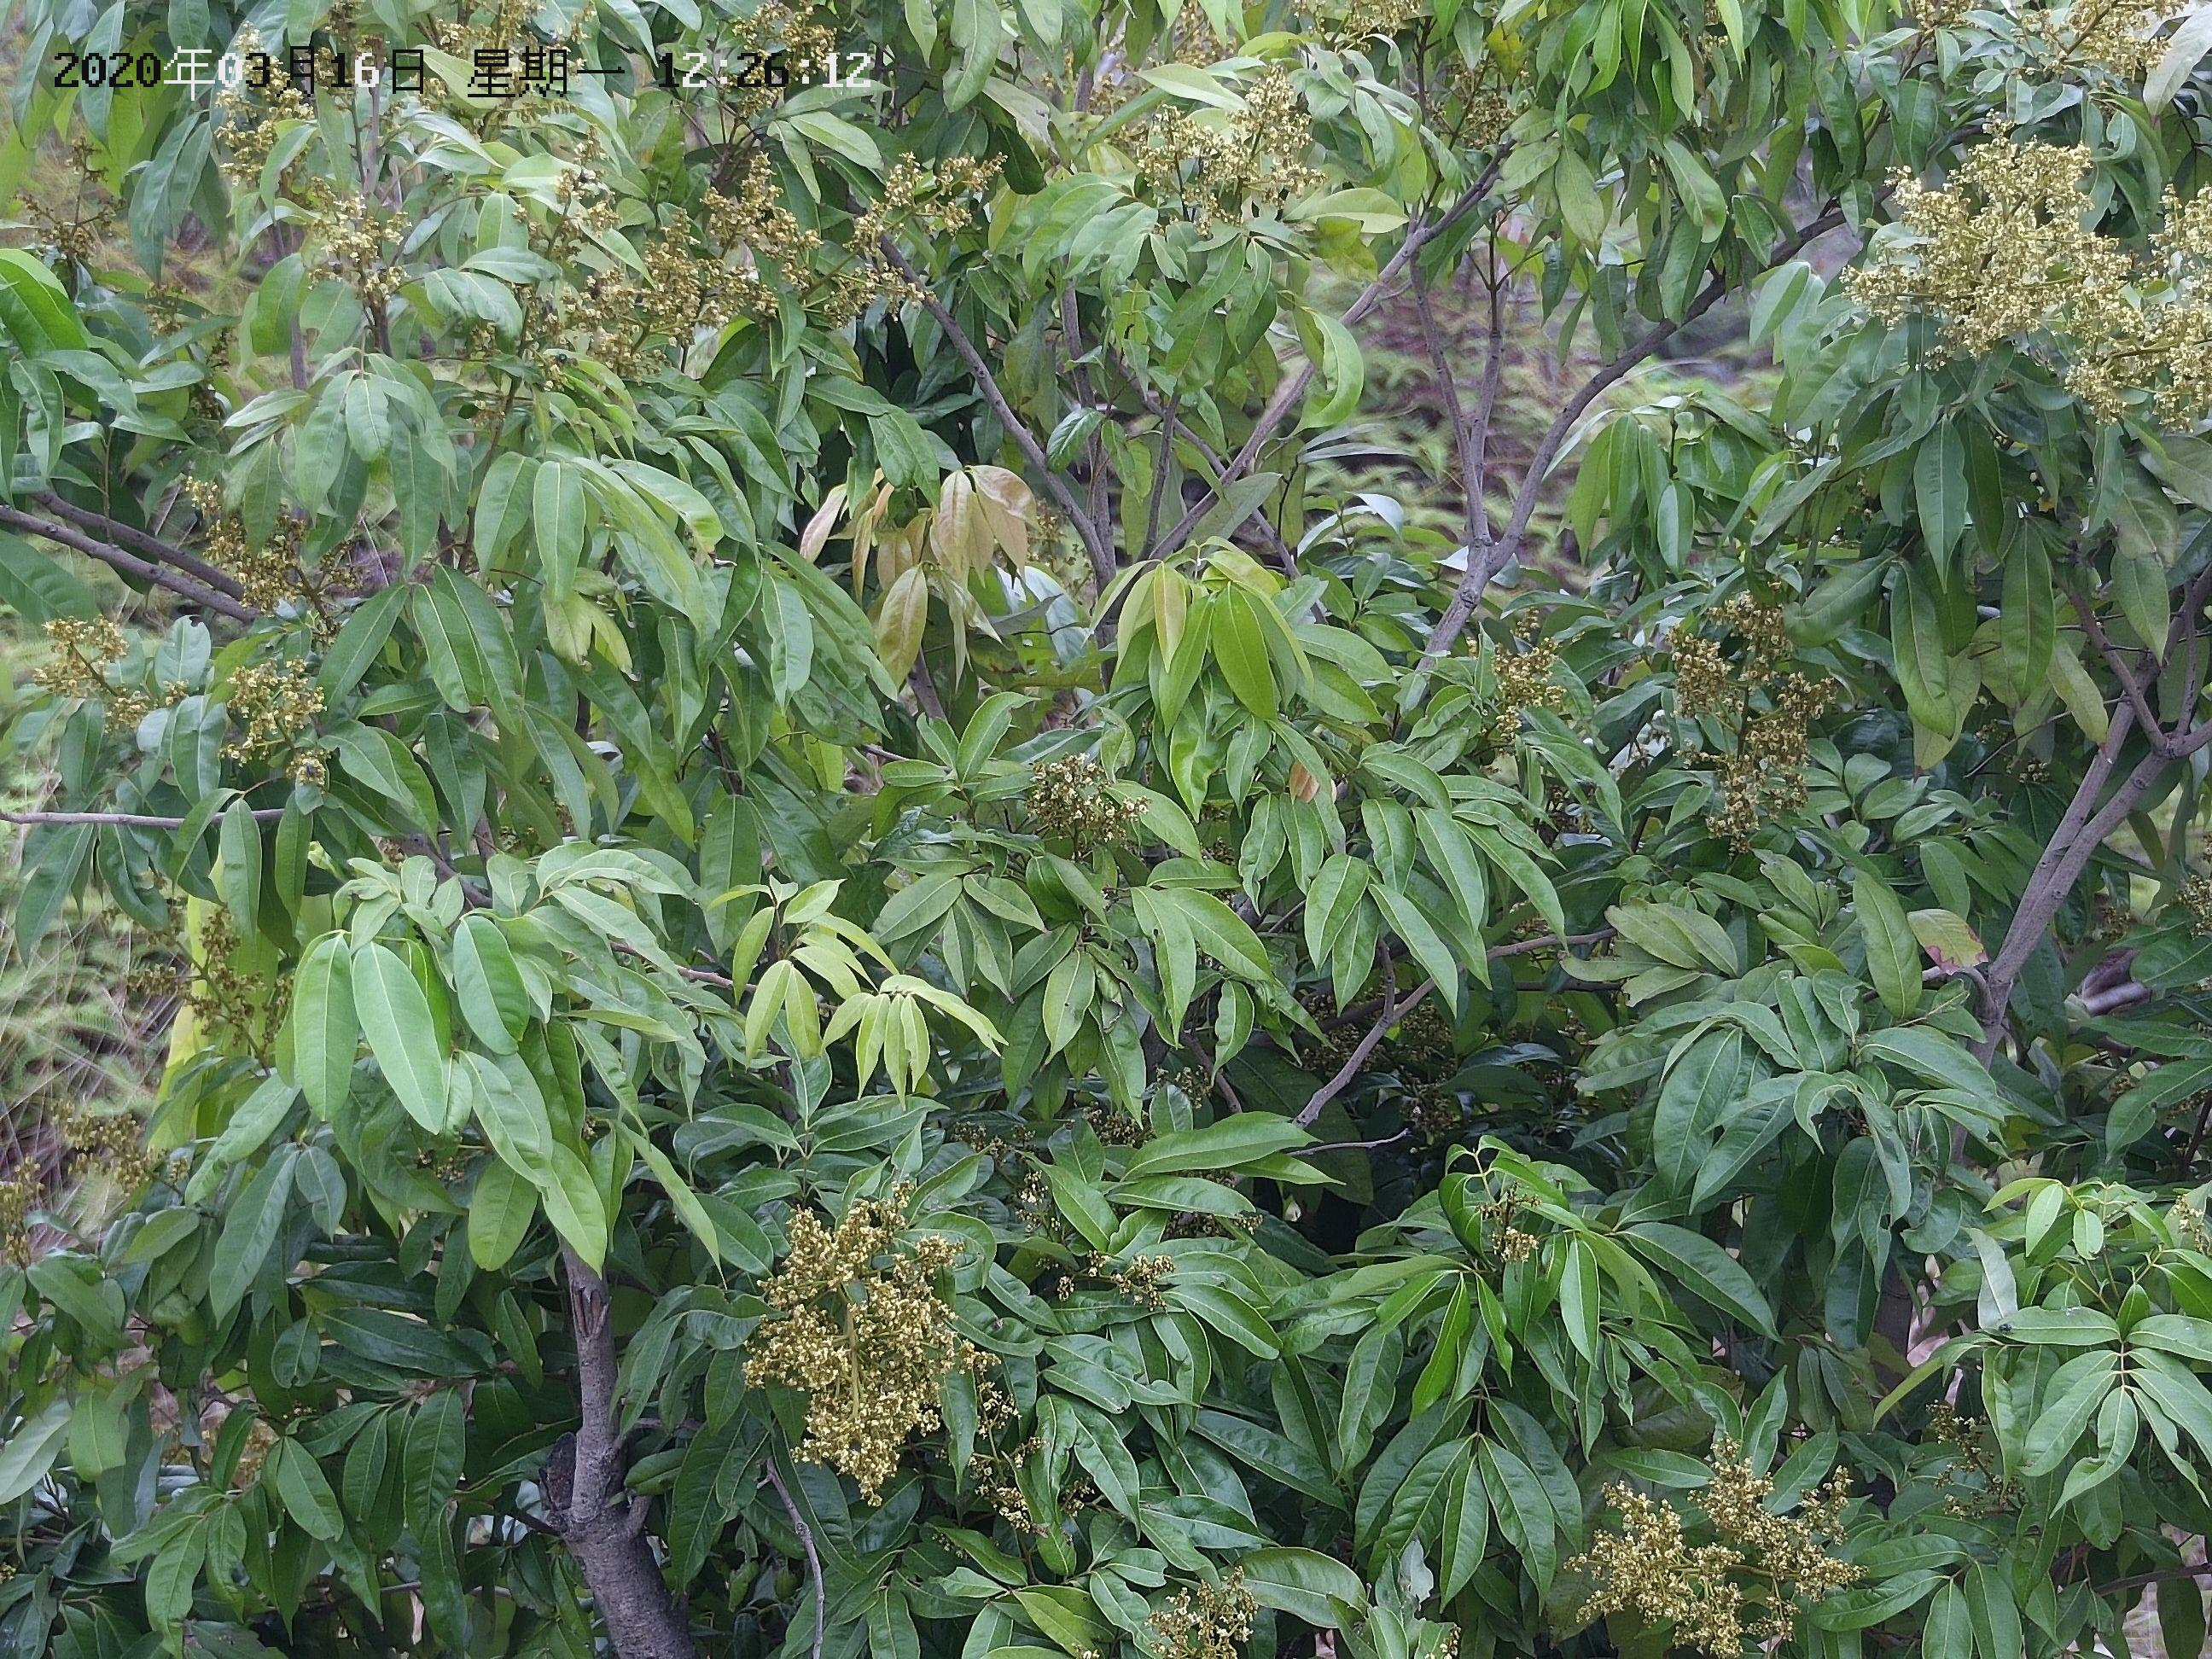开花始期: (650, 146, 1015, 329), (1649, 596, 1843, 847), (115, 878, 268, 1060), (188, 479, 331, 622), (209, 640, 345, 777), (298, 176, 413, 322), (2022, 0, 2188, 84), (30, 615, 148, 728), (1021, 741, 1139, 849), (45, 1093, 167, 1194), (1477, 608, 1576, 732), (1146, 1572, 1264, 1659), (1054, 1244, 1181, 1317)
开花盛期: (1838, 112, 2210, 423), (740, 1197, 979, 1504), (1557, 1438, 1858, 1659), (1115, 63, 1327, 220), (1489, 1223, 1545, 1269)
